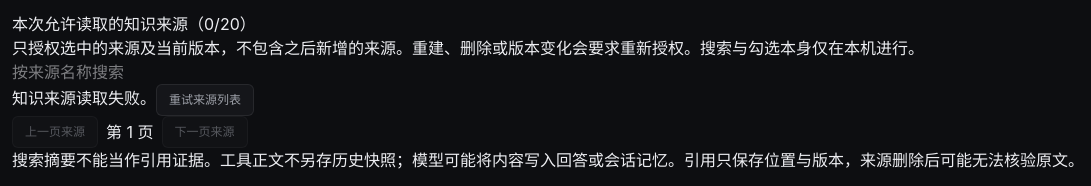
per-message knowledge consent › shows retry and empty states without auto-authorizing anything
The width and height of the screenshot is (1091, 186).
What coordinates should you click on to do the following:
click the button "重试来源列表"
I would click on:
 (205, 100)
Its box is [156, 84, 254, 116].
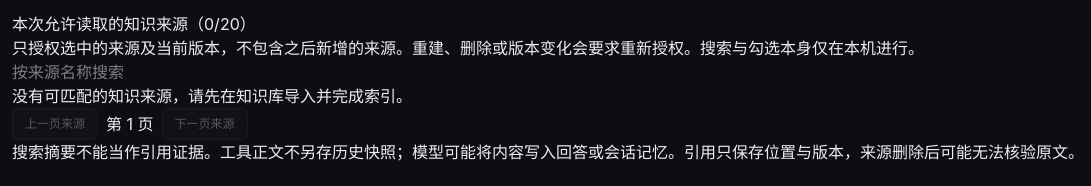
Now the text "没有可匹配的知识来源，请先在知识库导入并完成索引。" is shown, box [12, 86, 412, 106]
